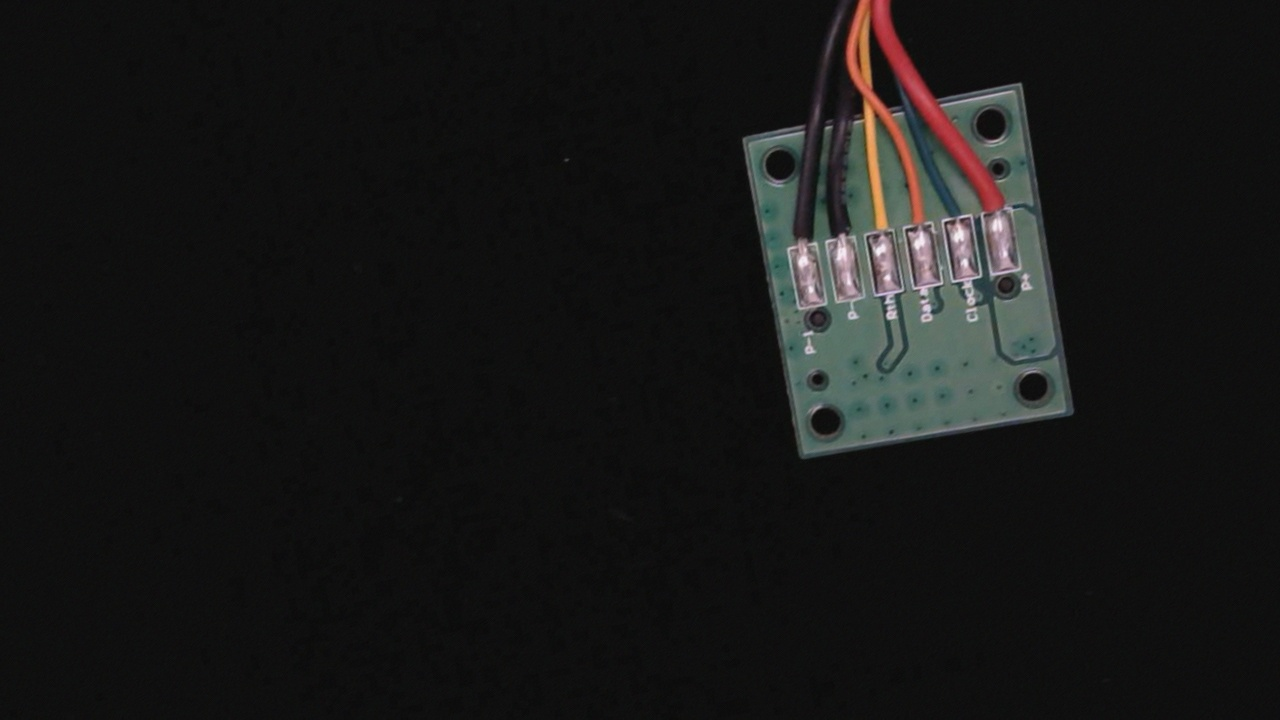Black: (816, 187, 859, 258)
Black1: (774, 196, 820, 268)
Green: (933, 175, 975, 242)
Orange: (893, 170, 938, 247)
Red: (973, 171, 1016, 234)
Yellow: (852, 175, 899, 254)
